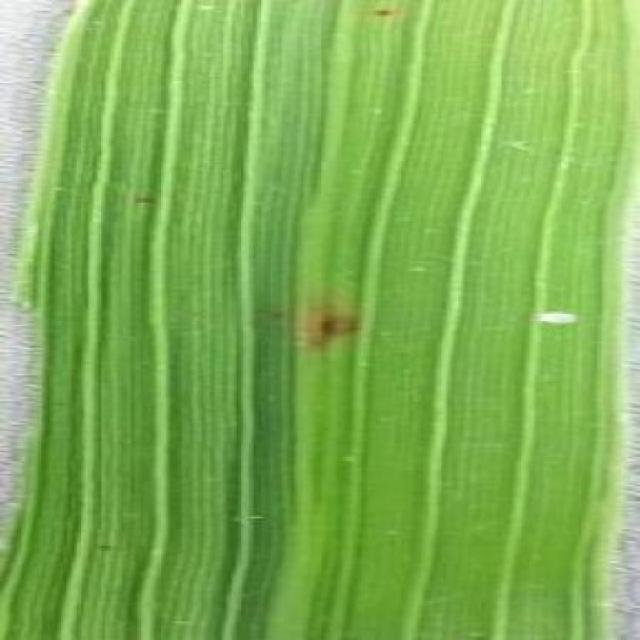Bacterial_Leaf_Blight: (522, 299, 590, 352), (299, 301, 363, 354)
Leaf_Blast: (219, 503, 279, 532), (157, 608, 208, 640), (125, 184, 167, 211), (362, 0, 404, 25), (188, 0, 232, 22), (87, 532, 124, 558), (256, 303, 290, 325)
